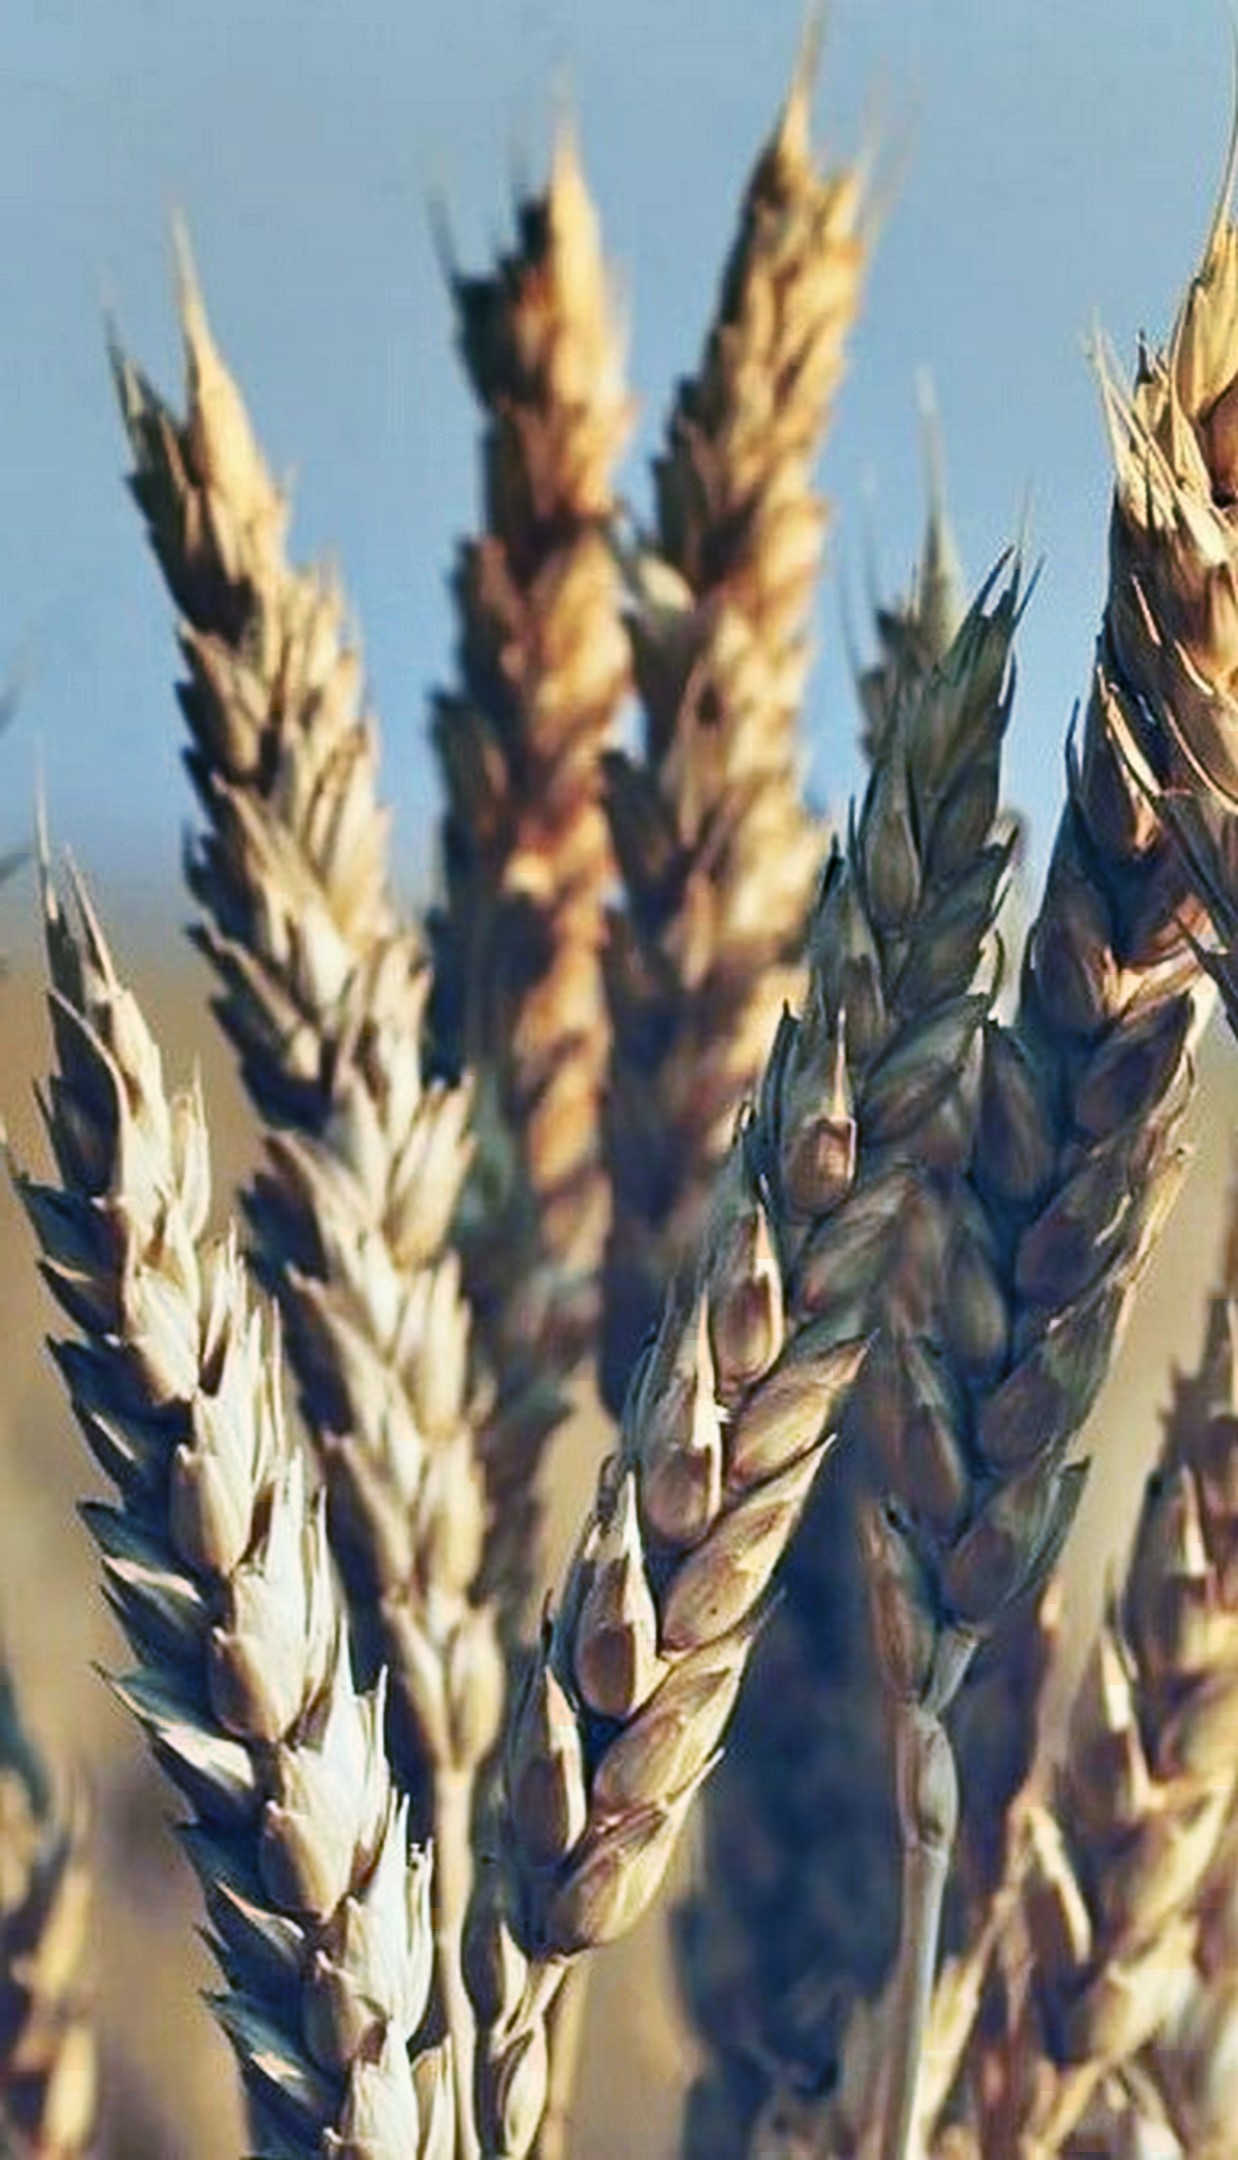Healthy Wheat: (514, 642, 1081, 1859), (25, 932, 443, 2105)
